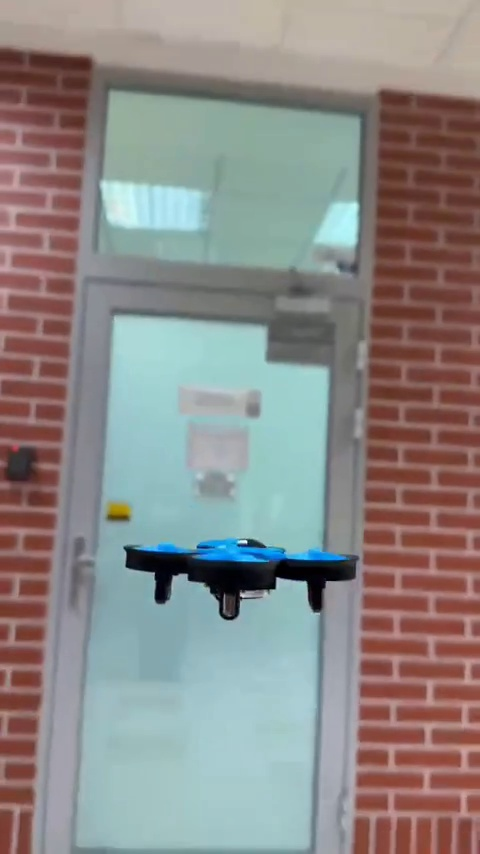drone: (128, 538, 361, 619)
